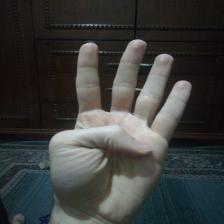four: (42, 38, 203, 222)
